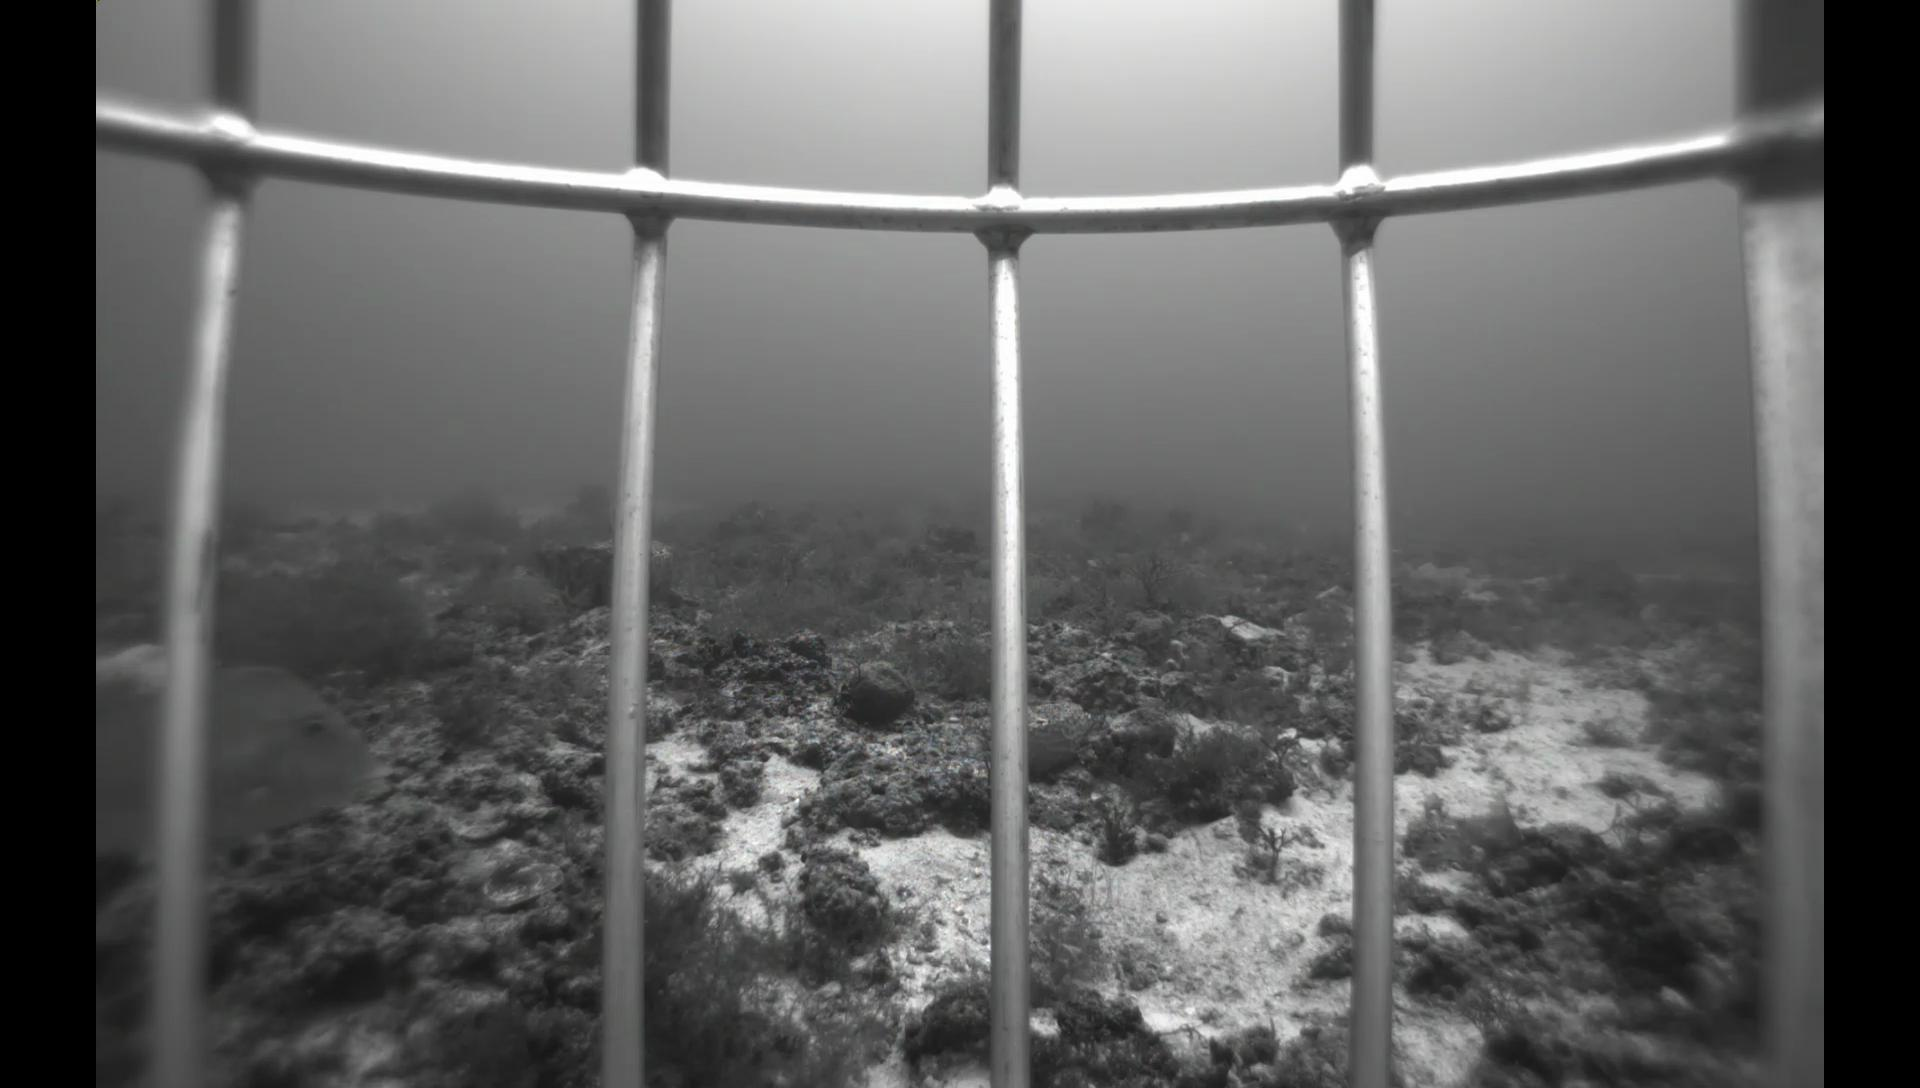CALAMUSNODOSUS-170210608: (98, 651, 385, 884)
HOLACANTHUSBERMUDENSIS-170290102: (102, 528, 165, 589)
MYCTEROPERCAPHENAX-170022105: (847, 509, 890, 554)
